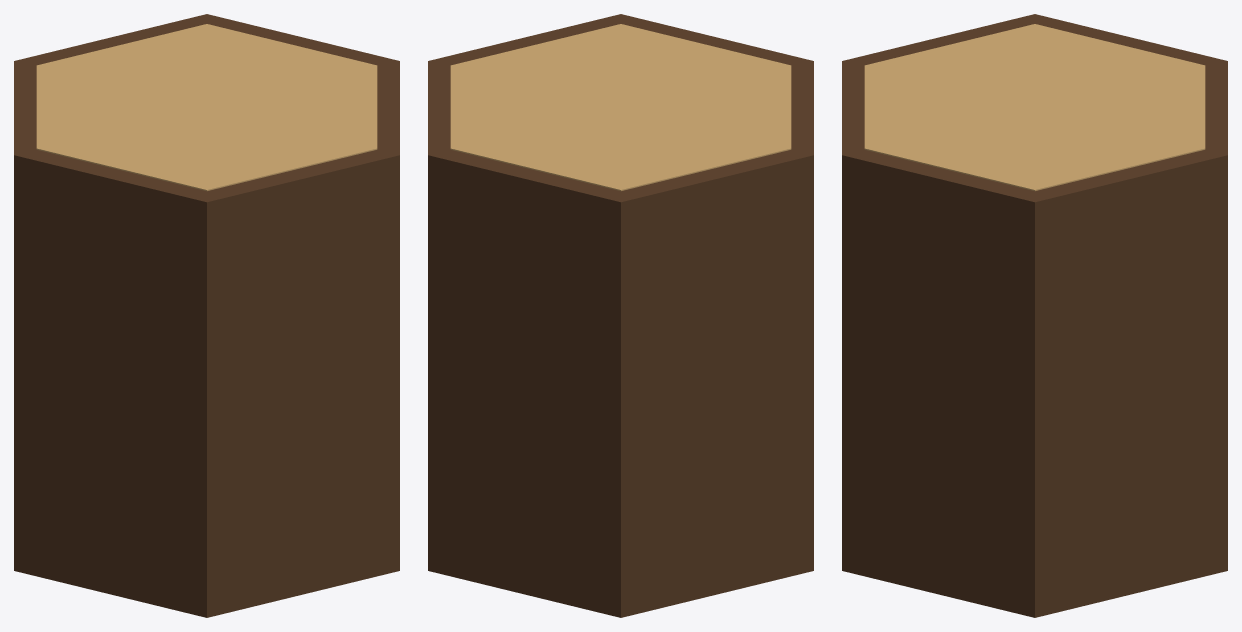
File: stump.glb
3 views of the same model, side by side, from view 1: azimuth 30°, elevation 25°; view 2: azimuth 150°, elevation 25°; view 3: azimuth 270°, elevation 25° (orthographic).
Visible parts, largest first — view 1: pine; view 2: pine; view 3: pine.
Boxes of the visible parts, x1=… form: pine: x1=14, y1=14, x2=399, y2=617; pine: x1=428, y1=14, x2=813, y2=617; pine: x1=842, y1=14, x2=1227, y2=617.
Size of the model in its own units: 0.34 by 0.351 by 0.2944.
1 material, 1 textured.
